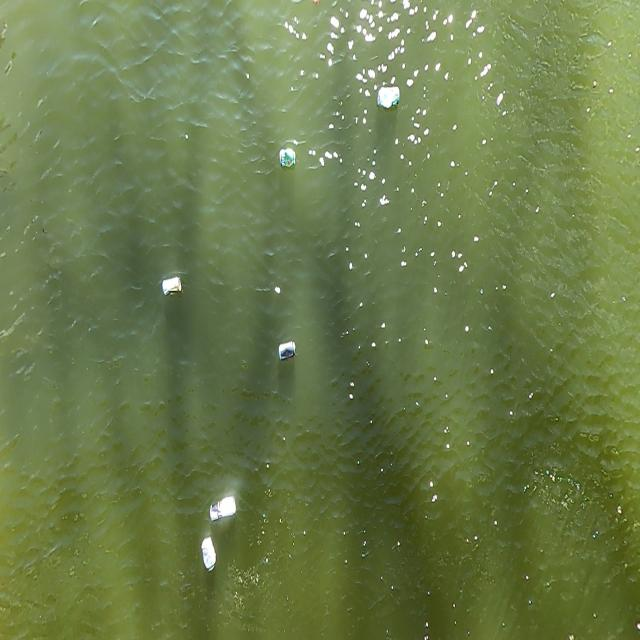Non plastique: (274, 331, 304, 371), (207, 493, 242, 527), (376, 81, 407, 118), (198, 533, 222, 576), (156, 269, 191, 297), (276, 144, 300, 176)
